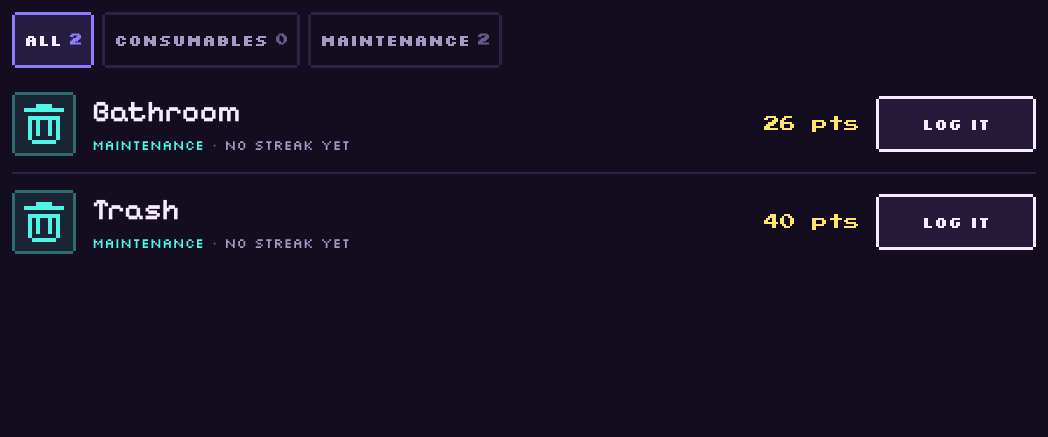
Test: ChoreGrid's floating score (issue #181) › floats in the middle when the tapped spot is off the screen by then
Click the button "Trash Maintenance · No streak yet 40 pts Log it" at {"x": 44, "y": 222}, box [12,174,1036,270]
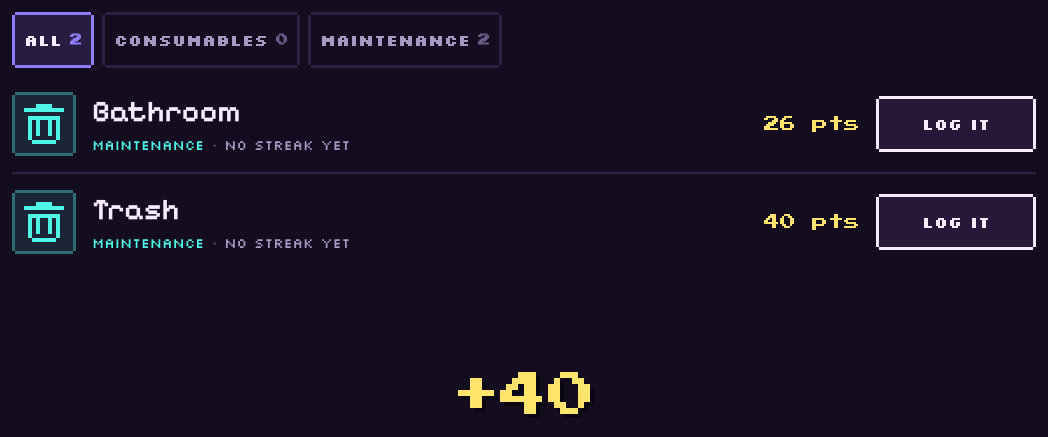
Check: the number of messages with test id "score-pop" is 1, box [452,372,596,420]
Check: the message with test id "score-pop" reads "+40", box [452,372,596,420]
